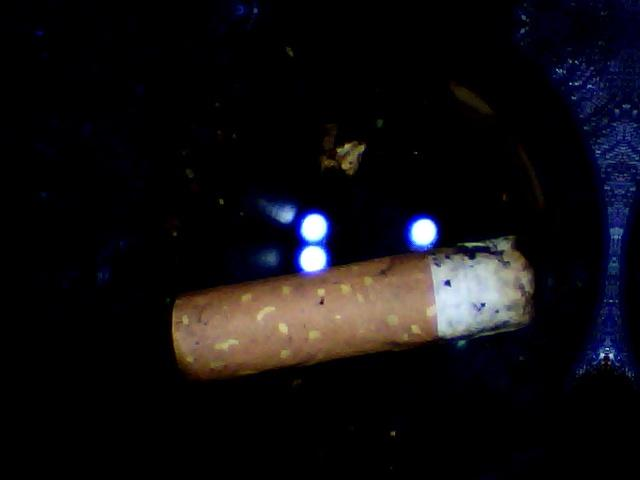megot: (149, 205, 556, 410)
